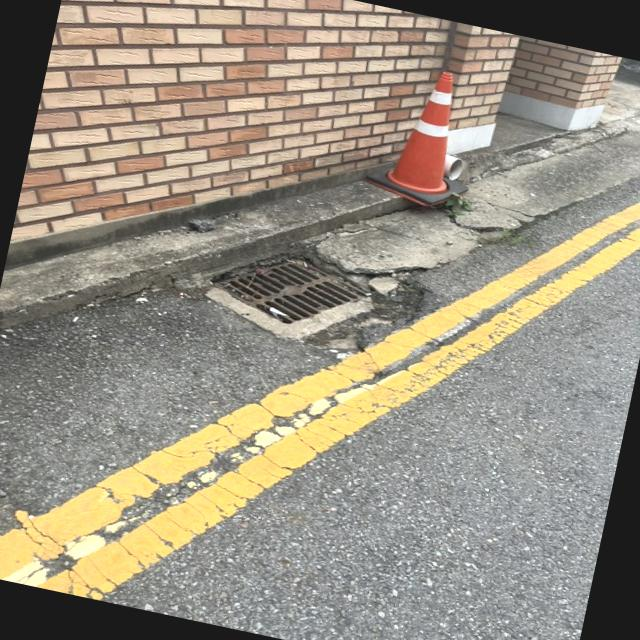drain_area: (229, 263, 359, 323)
drain_full: (212, 258, 367, 324)
